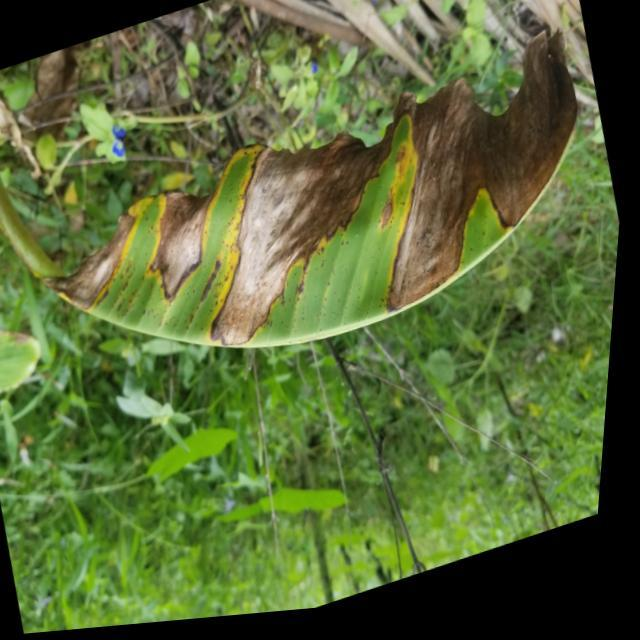Early_rust: (69, 33, 558, 367)
